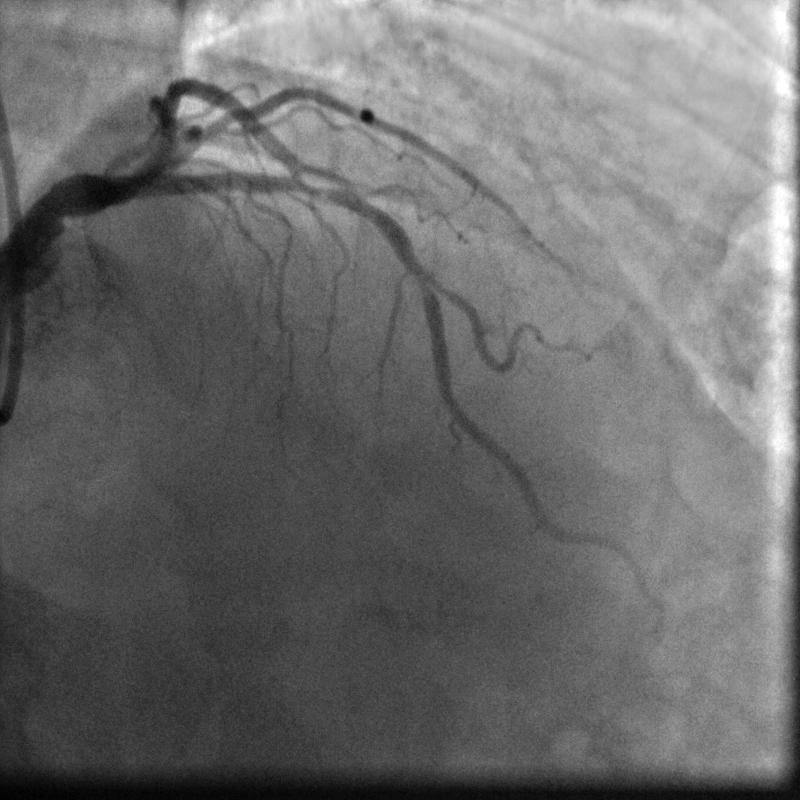Stenosis: (282, 171, 336, 205)
